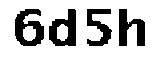5: (84, 1, 115, 53)
6: (10, 4, 48, 48)
d: (46, 6, 84, 53)
h: (116, 4, 151, 50)
